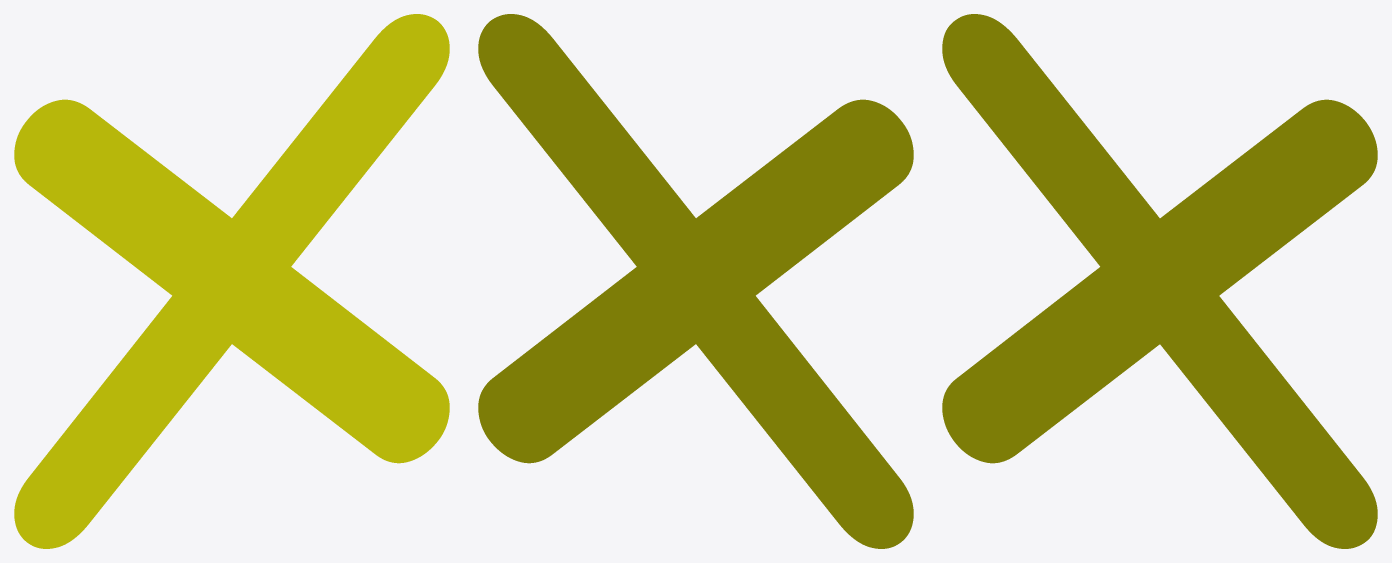
File: crossmark.glb
3 views of the same model, side by side, from view 1: azimuth 30°, elevation 25°; view 2: azimuth 150°, elevation 25°; view 3: azimuth 330°, elevation 25° (orthographic).
Parts seen in each view (by area): view 1: Text.808_808; view 2: Text.808_808; view 3: Text.808_808.
Boxes of the visible parts, left/top/right/bottom form: Text.808_808: left=14, top=14, right=449, bottom=548; Text.808_808: left=478, top=14, right=913, bottom=548; Text.808_808: left=942, top=14, right=1377, bottom=548.
Size of the model in its own units: 0.986 by 0.967 by 3.42e-06.
